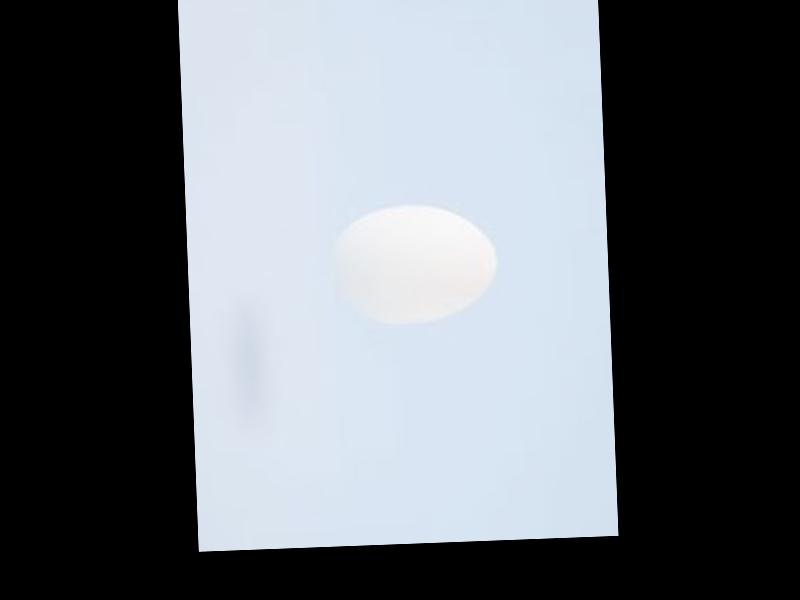Eggs: (327, 201, 499, 328)
